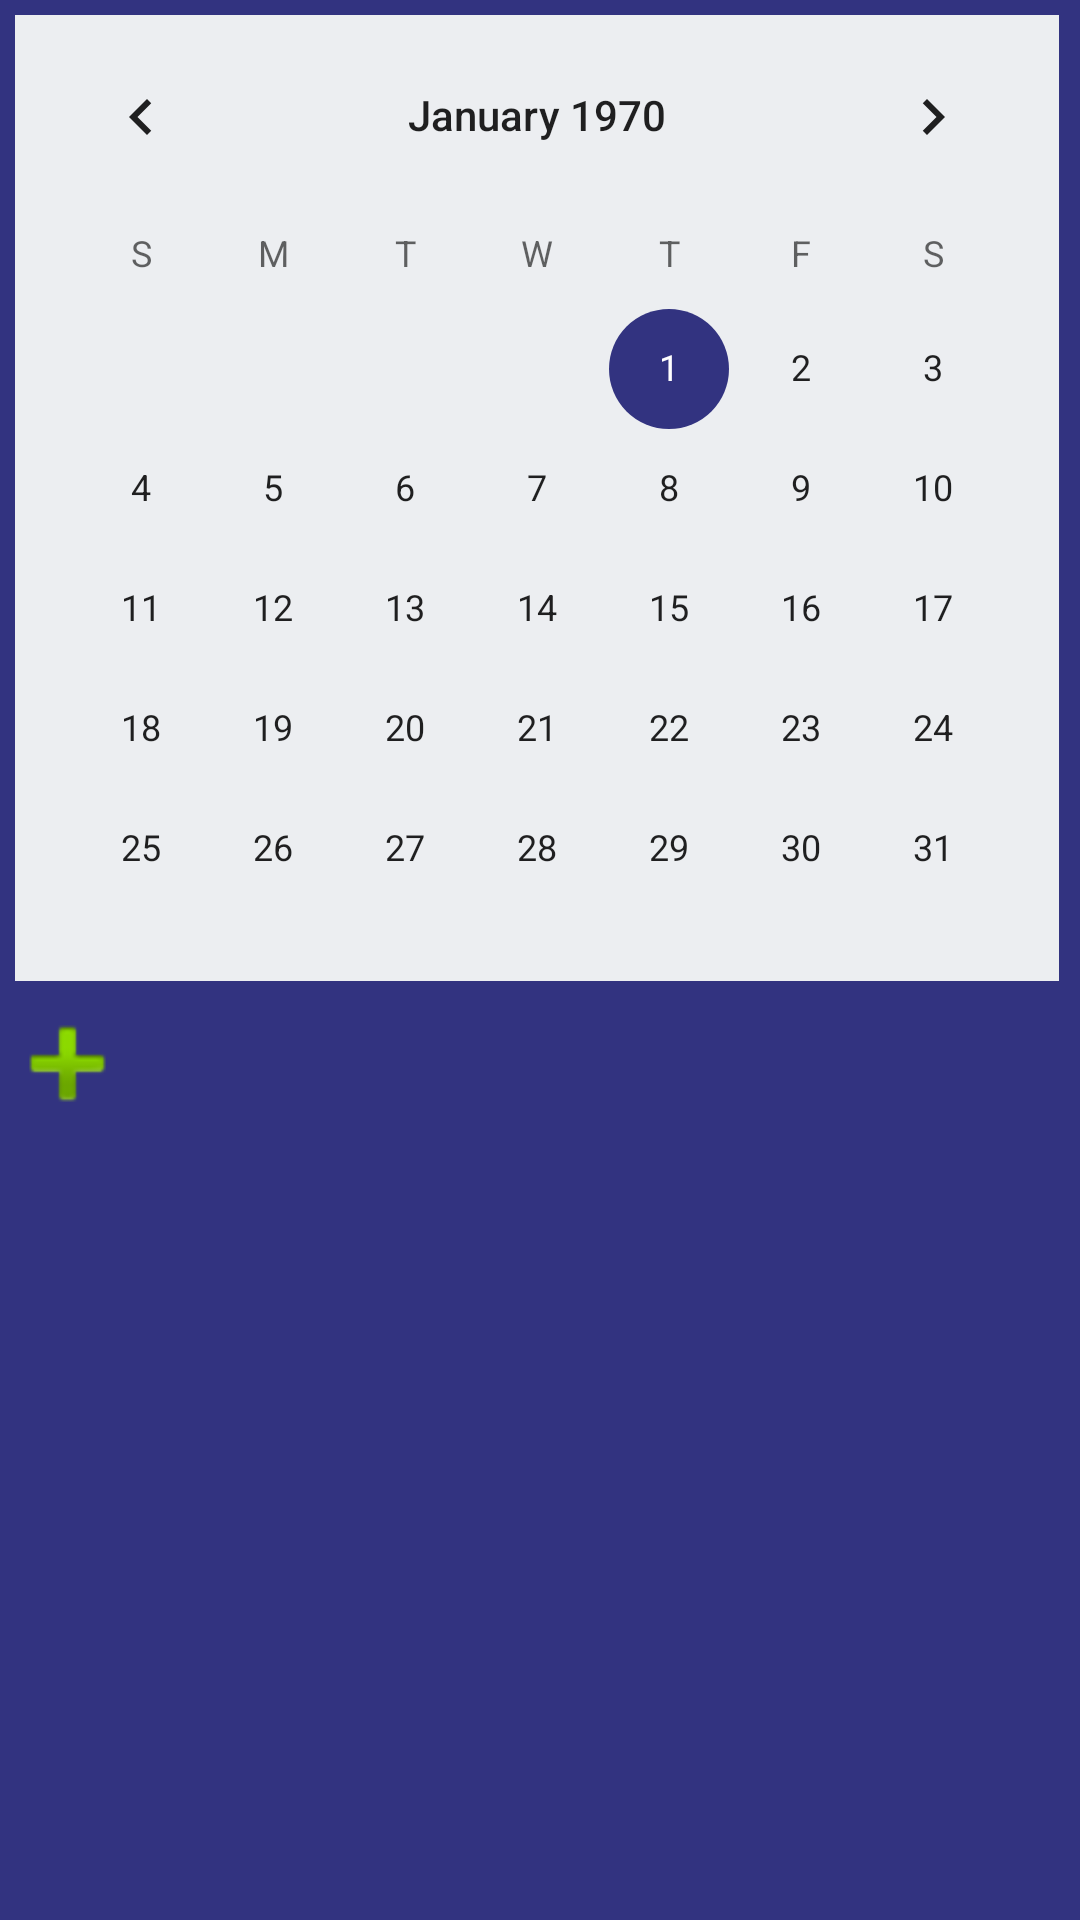

Screen size 1080px×1920px. Icon name, then its box in pixels as (x1, y1, x2, y2):
add: (29, 1026, 106, 1101)
